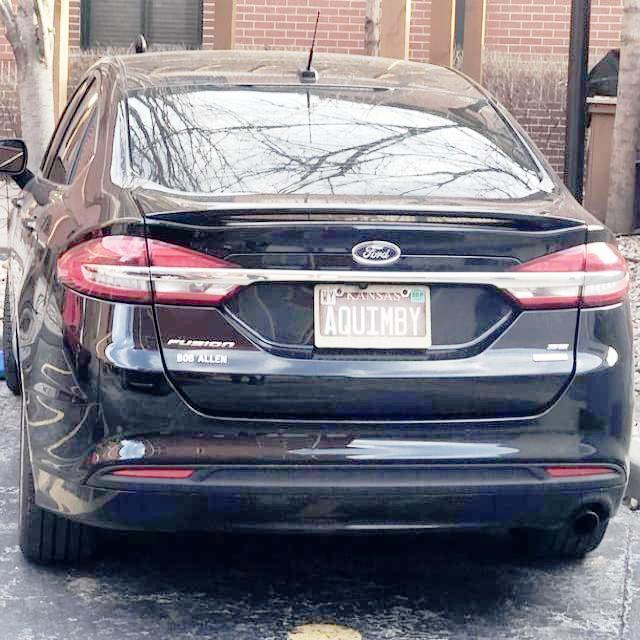license_plate: (316, 280, 430, 349)
